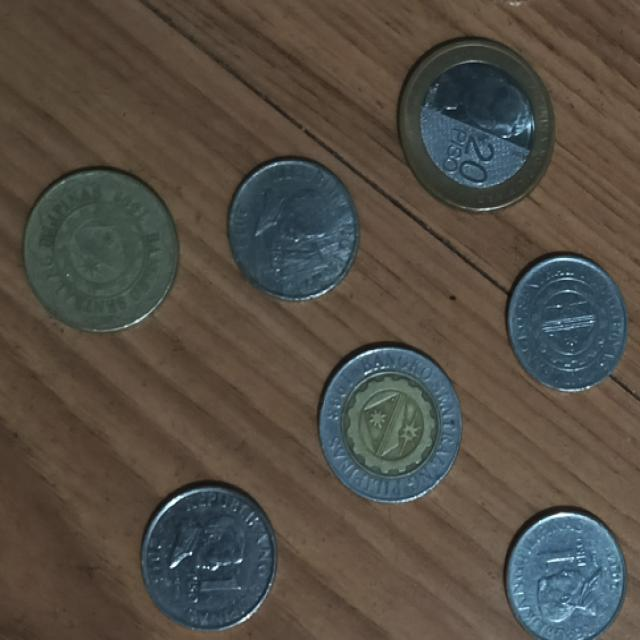10_peso: (319, 346, 460, 502)
1_peso: (141, 484, 275, 630), (228, 158, 358, 300), (508, 258, 624, 391), (508, 511, 623, 639)
20_peso: (400, 38, 554, 210)
5_peso: (24, 169, 177, 330)
